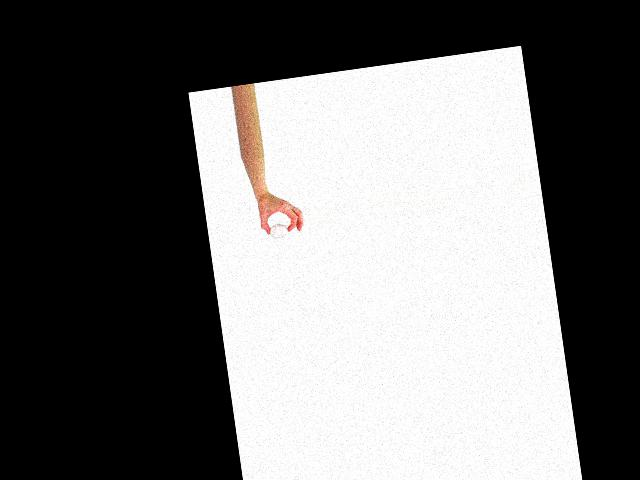egg: (268, 222, 288, 239)
